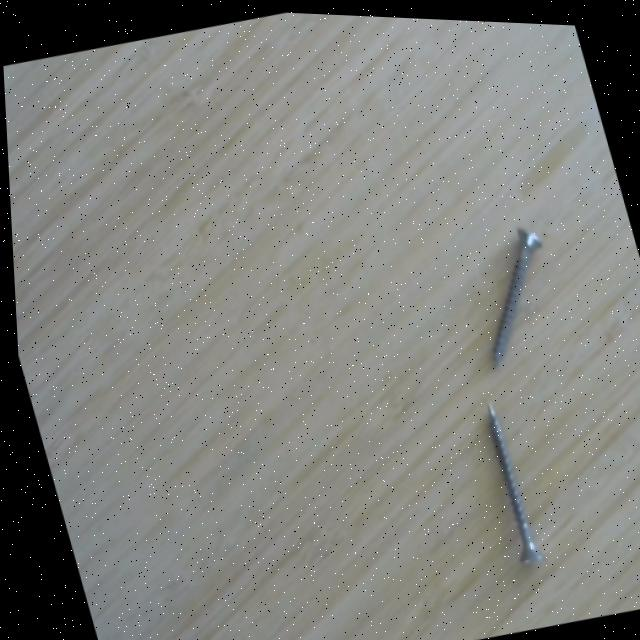Black screw: (448, 204, 574, 375), (462, 380, 546, 569)
